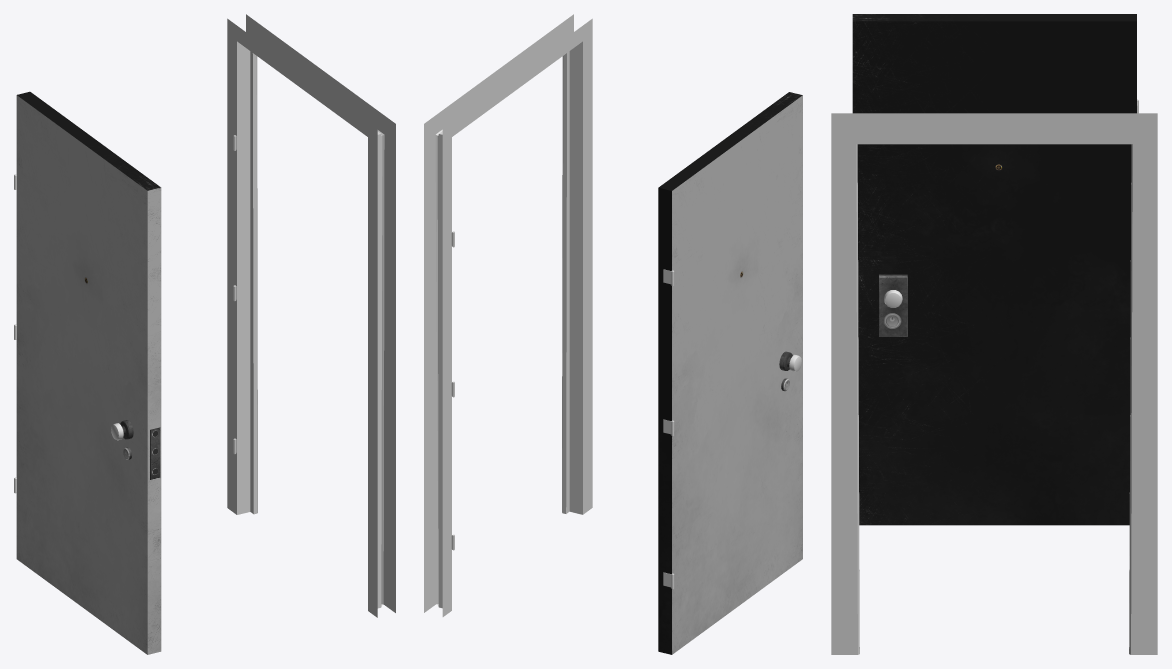
Rendered from FLAT_entranceDoor_01.FBX.
3 views of the same model, side by side, from view 1: azimuth 30°, elevation 25°; view 2: azimuth 150°, elevation 25°; view 3: azimuth 270°, elevation 25° (orthographic). The views are drawn at different scales.
Parts seen in each view (by area): view 1: FLAT_entranceDoor_01_door, FLAT_entranceDoor_01_doorway; view 2: FLAT_entranceDoor_01_door, FLAT_entranceDoor_01_doorway; view 3: FLAT_entranceDoor_01_door, FLAT_entranceDoor_01_doorway, FLAT_entranceDoor_01_lock.
Part boxes in pixels (x1,y1,x2,y2): FLAT_entranceDoor_01_door: (16, 91, 161, 654); FLAT_entranceDoor_01_doorway: (227, 14, 395, 617); FLAT_entranceDoor_01_door: (658, 92, 802, 654); FLAT_entranceDoor_01_doorway: (424, 14, 592, 616); FLAT_entranceDoor_01_door: (852, 14, 1136, 525); FLAT_entranceDoor_01_doorway: (831, 113, 1157, 654); FLAT_entranceDoor_01_lock: (879, 274, 907, 336).
Bounding box in the file's own units: 155 × 287 × 159.
1 material, 1 textured.
